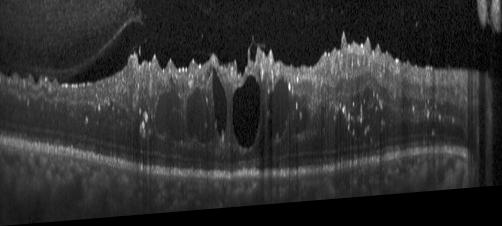intraretinal_cyst: (232, 79, 260, 152), (156, 80, 184, 144), (266, 83, 293, 143), (186, 91, 214, 147), (212, 71, 227, 141), (296, 113, 310, 139), (336, 116, 347, 142), (320, 113, 326, 134)
vitreous_detachment: (2, 20, 144, 74)
